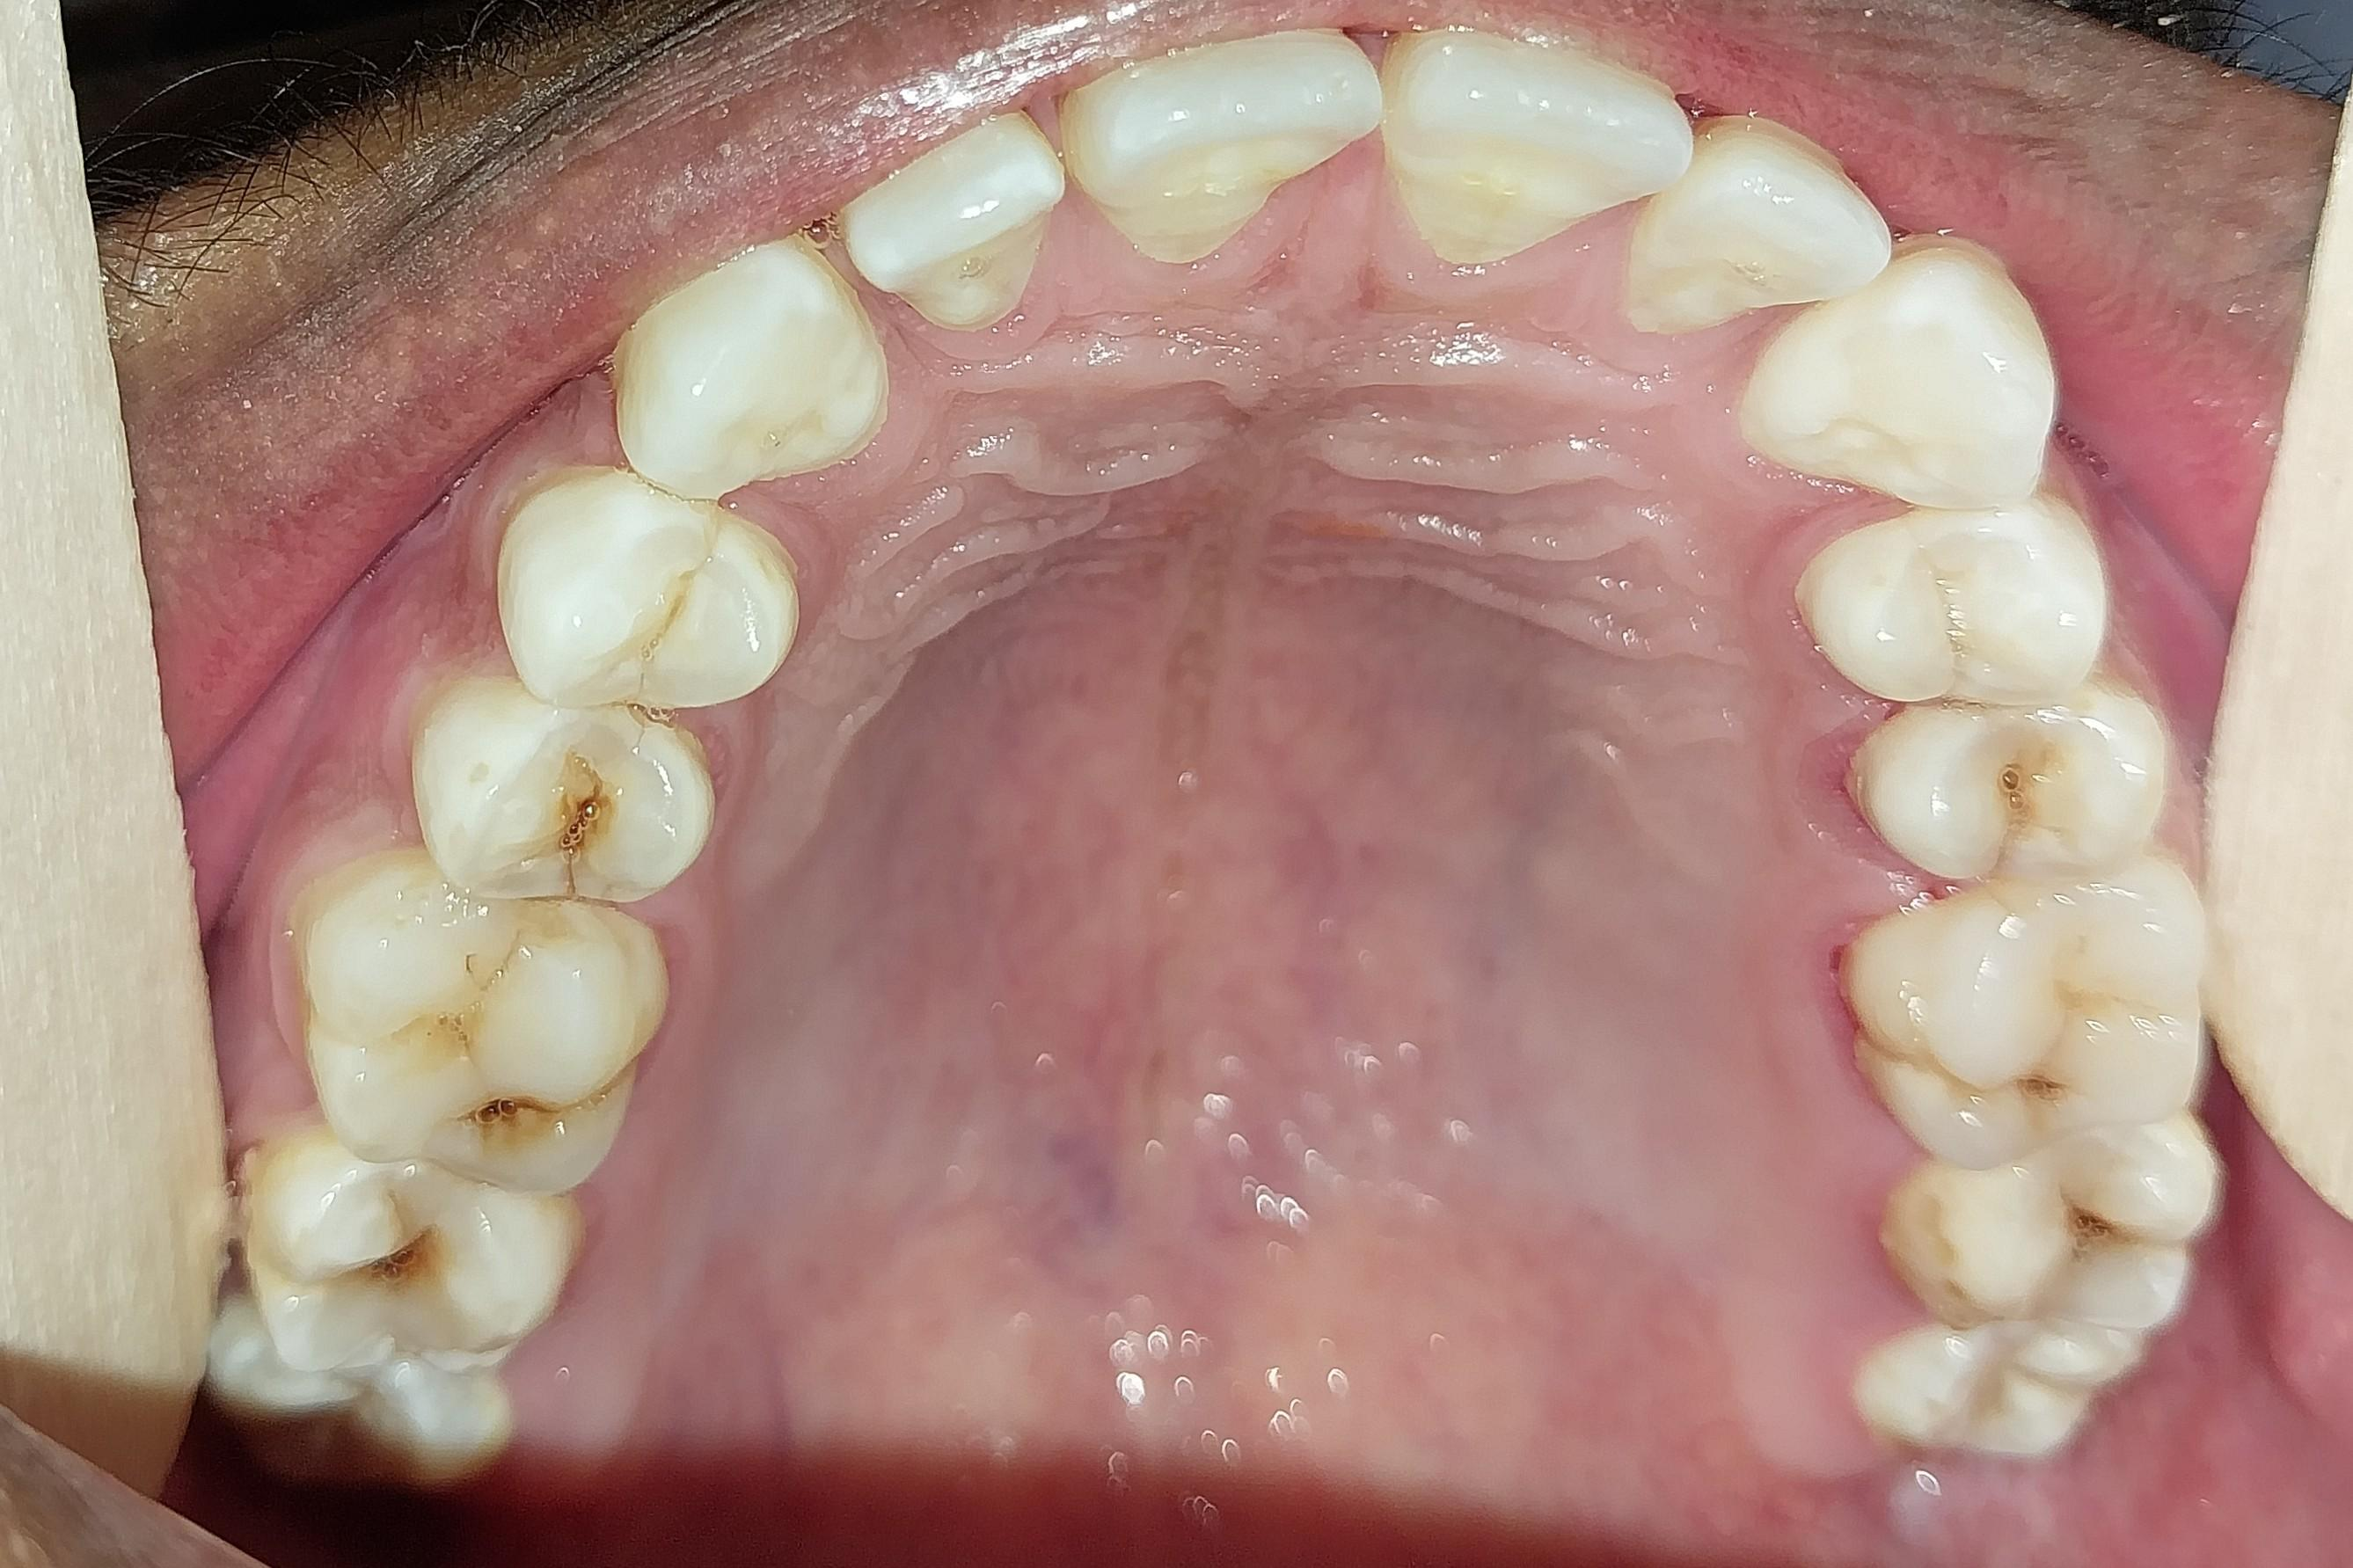D: (291, 858, 667, 1197), (1838, 890, 2215, 1150), (242, 1120, 572, 1382), (409, 673, 716, 907), (1878, 1122, 2224, 1326), (1846, 705, 2170, 877)
